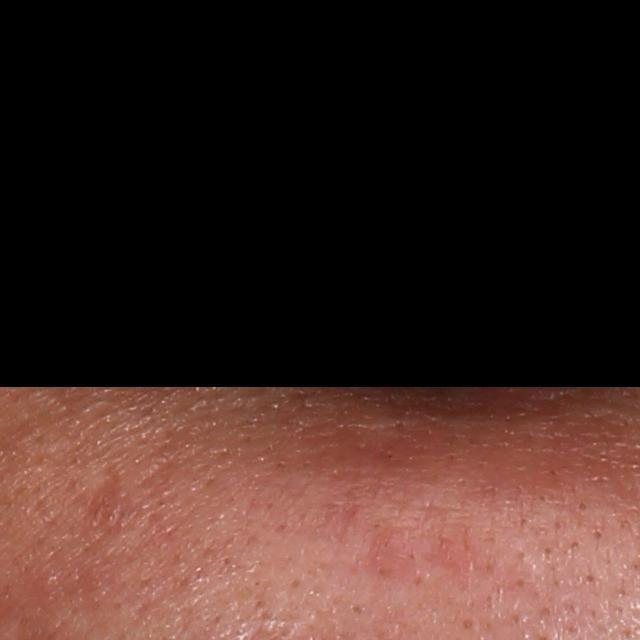comedo: (574, 497, 594, 515), (589, 526, 607, 543)
